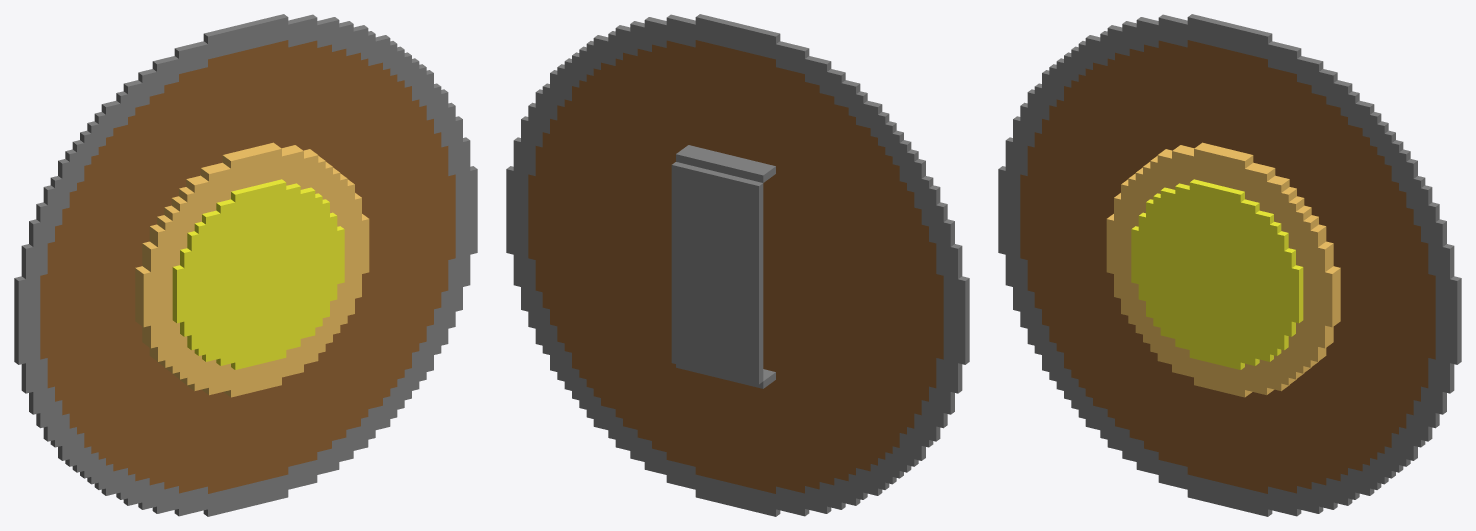
File: perisai.fbx
3 views of the same model, side by side, from view 1: azimuth 30°, elevation 25°; view 2: azimuth 150°, elevation 25°; view 3: azimuth 330°, elevation 25° (orthographic).
Visible parts, largest first — view 1: Untitled; view 2: Untitled; view 3: Untitled.
Part boxes in pixels (x1,y1,x2,y2): Untitled: [14, 14, 477, 516]; Untitled: [506, 14, 969, 516]; Untitled: [998, 14, 1461, 516].
Bounding box in the file's own units: 630 × 630 × 80.
Materials: 1 (1 with a texture image).
